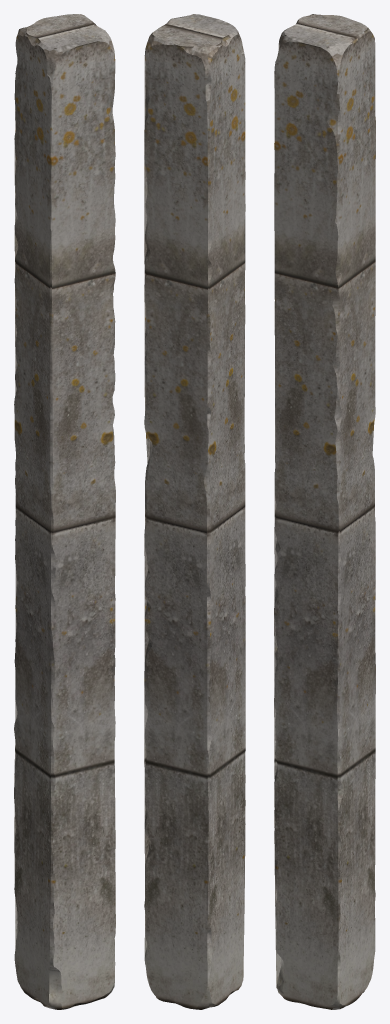
File: Bet_stolb_003-2.fbx
3 renders of one model, left to right at view 1: azimuth 30°, elevation 25°; view 2: azimuth 150°, elevation 25°; view 3: azimuth 330°, elevation 25°, orthographic.
Visible parts, largest first — view 1: Plane.004_dmg.001; view 2: Plane.004_dmg.001; view 3: Plane.004_dmg.001.
Part boxes in pixels (x1,y1,x2,y2): Plane.004_dmg.001: (14,14,115,1009); Plane.004_dmg.001: (144,14,245,1009); Plane.004_dmg.001: (274,14,375,1009).
Size of the model in its own units: 40 by 570 by 40.
